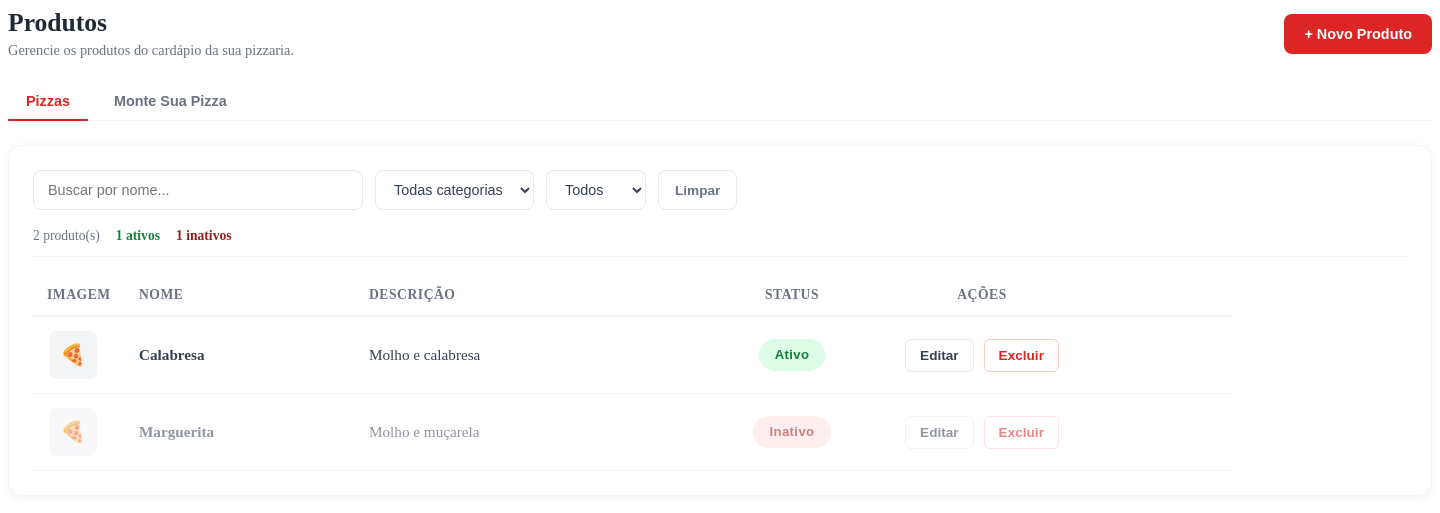
Test: AdminProdutos - aba Pizzas › filtra por nome
Expected: the text "Calabresa" is shown, [117, 316, 347, 394]
Type "margue" into the field with placeholder "Buscar por nome...".
click(198, 190); type("margue")  # box [33, 170, 363, 210]
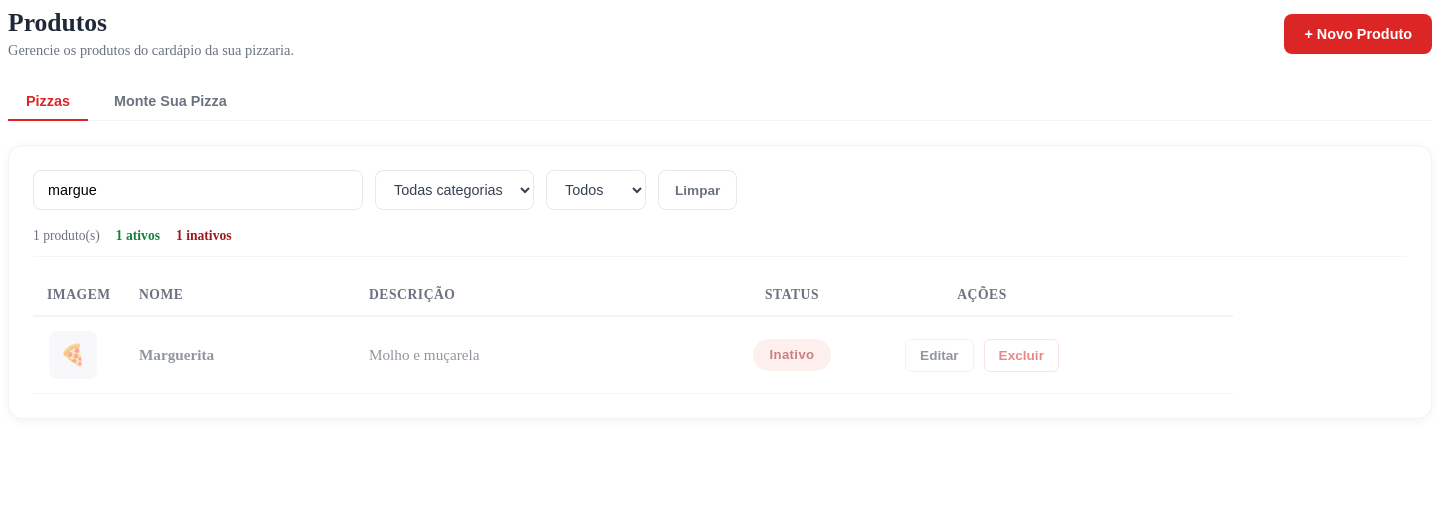
Expected: the text "Marguerita" is shown, [117, 316, 347, 394]
Expected: the text "Calabresa" is gone
